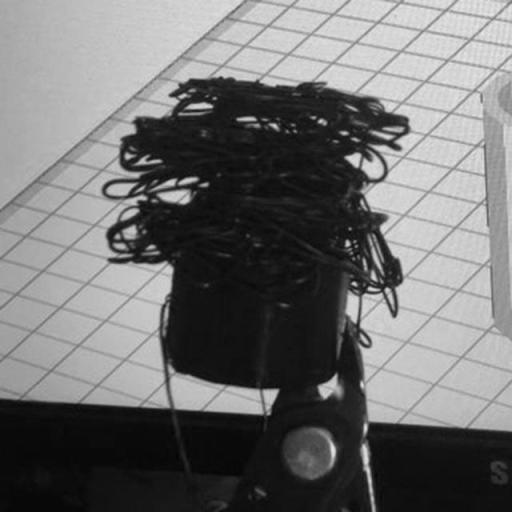spaghetti_and_stringing: (98, 71, 419, 352)
